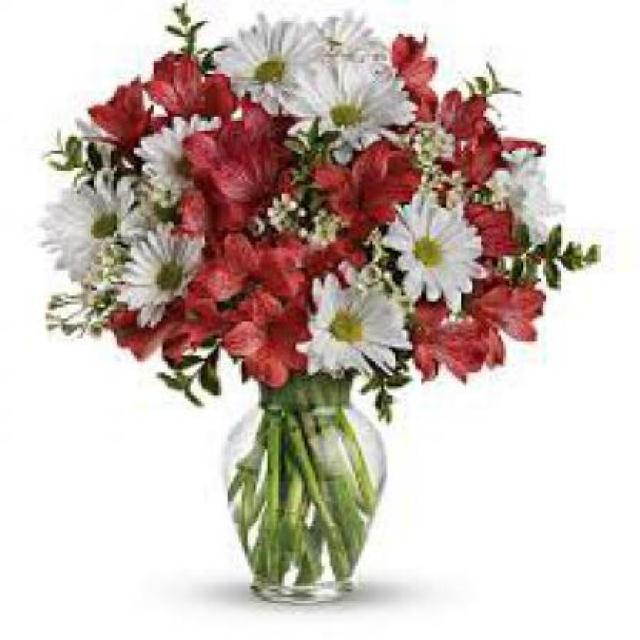Flower: (37, 168, 154, 291), (296, 265, 413, 379), (276, 60, 418, 149), (211, 11, 332, 114), (385, 194, 489, 312), (279, 14, 387, 123), (119, 222, 216, 328), (131, 114, 234, 211), (483, 148, 566, 245)
